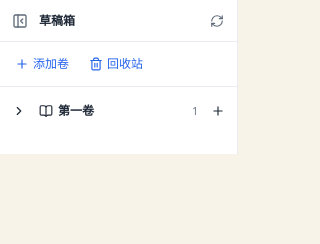
Test: chapter outline sidebar › omits blueprint-only chapters and scene badges from the prose directory
The width and height of the screenshot is (320, 244).
Expected: the button with class "chapter-outline-toggle" is shown, [8,8,32,34]
Click the 1st button with class "chapter-outline-arrow". click: coordinates (19, 111)
box: [6,96,32,126]
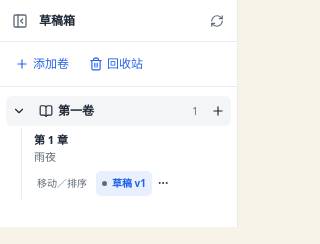
Expected: the text "1" is shown, [192,104,198,118]
Expected: the number of elements with class "chapter-outline-chapter" is 1, [21,128,231,199]
